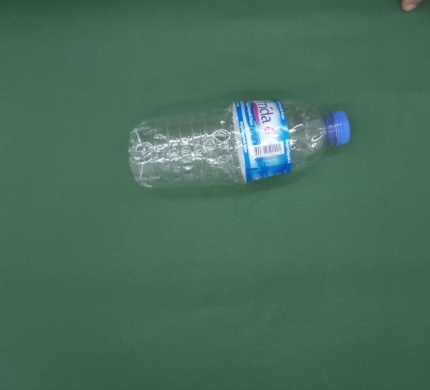plastic_bottle: (127, 101, 351, 188)
